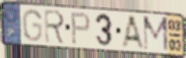3: (94, 12, 115, 49)
A: (120, 14, 147, 52)
G: (22, 8, 44, 43)
M: (142, 15, 170, 53)
P: (70, 12, 93, 46)
R: (44, 8, 67, 46)
